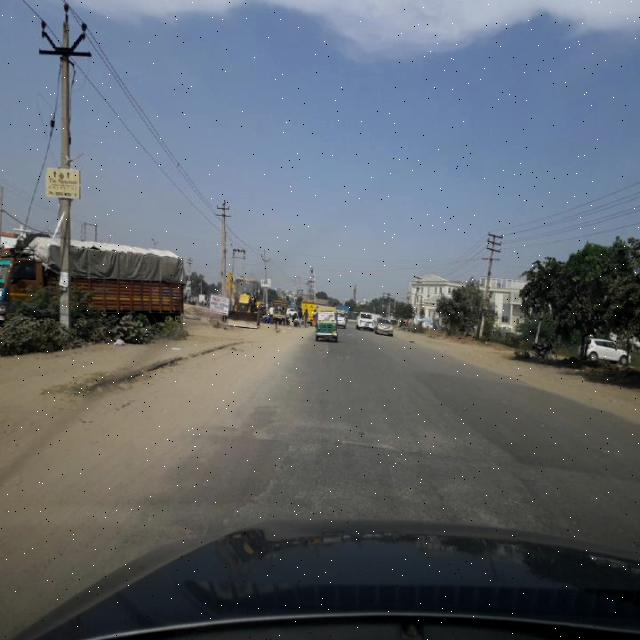D00: (222, 449, 292, 522)
D10: (212, 416, 519, 477)
